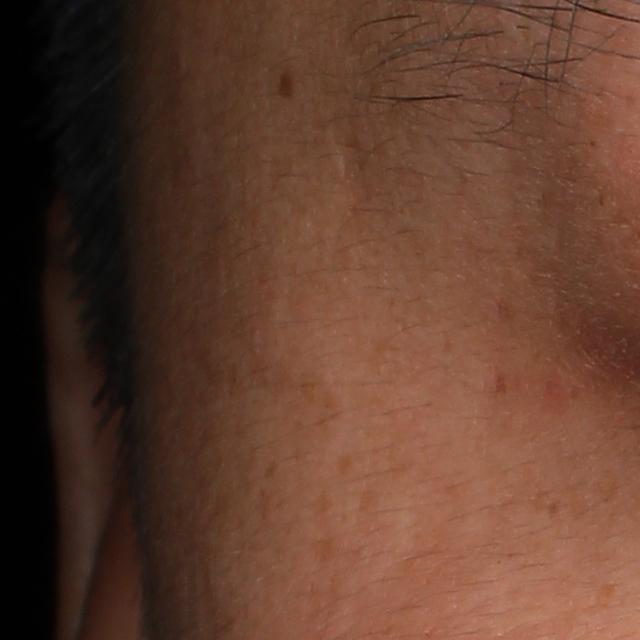melasma: (593, 579, 622, 610), (354, 489, 384, 514), (544, 496, 562, 521), (261, 458, 281, 477)
nevus: (278, 66, 298, 98)
